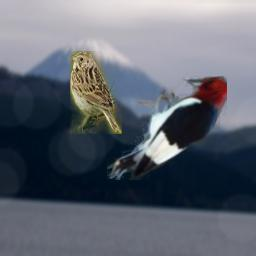Sparrow: (70, 51, 122, 134)
Woodpecker: (107, 76, 227, 180)
